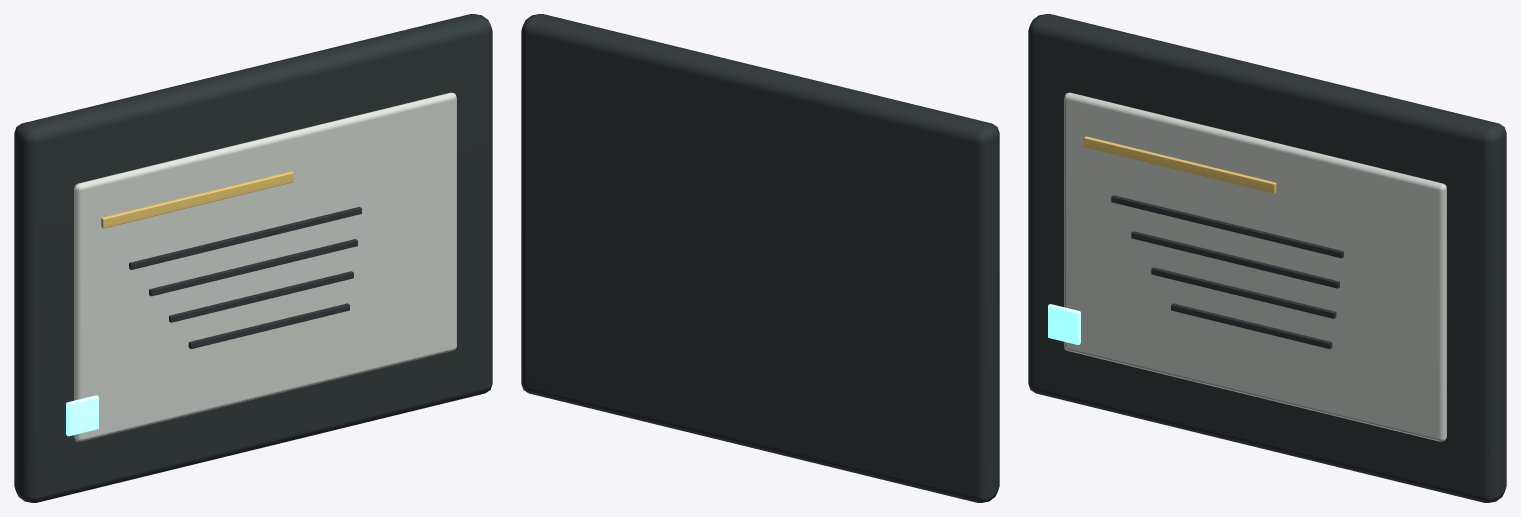
Rendered from age_museum_wall_label_panel.glb.
The picture shows the model from 3 angles, left to right: view 1: azimuth 30°, elevation 25°; view 2: azimuth 150°, elevation 25°; view 3: azimuth 330°, elevation 25°; orthographic projection.
Parts seen in each view (by area): view 1: age_museum_wall_label_panel_readable_face, age_museum_wall_label_panel_backplate_black, age_museum_wall_label_panel_title_gold, age_museum_wall_label_panel_body_line_01, age_museum_wall_label_panel_body_line_02, age_museum_wall_label_panel_body_line_03, age_museum_wall_label_panel_body_line_04, age_museum_wall_label_panel_muted_cyan_corner; view 2: age_museum_wall_label_panel_backplate_black; view 3: age_museum_wall_label_panel_readable_face, age_museum_wall_label_panel_backplate_black, age_museum_wall_label_panel_title_gold, age_museum_wall_label_panel_body_line_01, age_museum_wall_label_panel_body_line_02, age_museum_wall_label_panel_body_line_03, age_museum_wall_label_panel_body_line_04, age_museum_wall_label_panel_muted_cyan_corner.
Part boxes in pixels (x1,y1,x2,y2): age_museum_wall_label_panel_readable_face: (74,92,456,441); age_museum_wall_label_panel_backplate_black: (14,14,492,502); age_museum_wall_label_panel_title_gold: (101,171,293,228); age_museum_wall_label_panel_body_line_01: (129,207,361,269); age_museum_wall_label_panel_body_line_02: (149,239,357,296); age_museum_wall_label_panel_body_line_03: (169,271,353,322); age_museum_wall_label_panel_body_line_04: (188,303,349,348); age_museum_wall_label_panel_muted_cyan_corner: (66,395,98,436); age_museum_wall_label_panel_backplate_black: (521,14,999,502); age_museum_wall_label_panel_readable_face: (1064,92,1446,441); age_museum_wall_label_panel_backplate_black: (1028,14,1506,502); age_museum_wall_label_panel_title_gold: (1084,136,1276,193); age_museum_wall_label_panel_body_line_01: (1111,195,1343,258); age_museum_wall_label_panel_body_line_02: (1131,231,1339,288); age_museum_wall_label_panel_body_line_03: (1151,267,1336,318); age_museum_wall_label_panel_body_line_04: (1171,303,1332,348); age_museum_wall_label_panel_muted_cyan_corner: (1048,304,1080,344).
Bounding box in the file's own units: 1.18 × 0.9 × 0.116.
